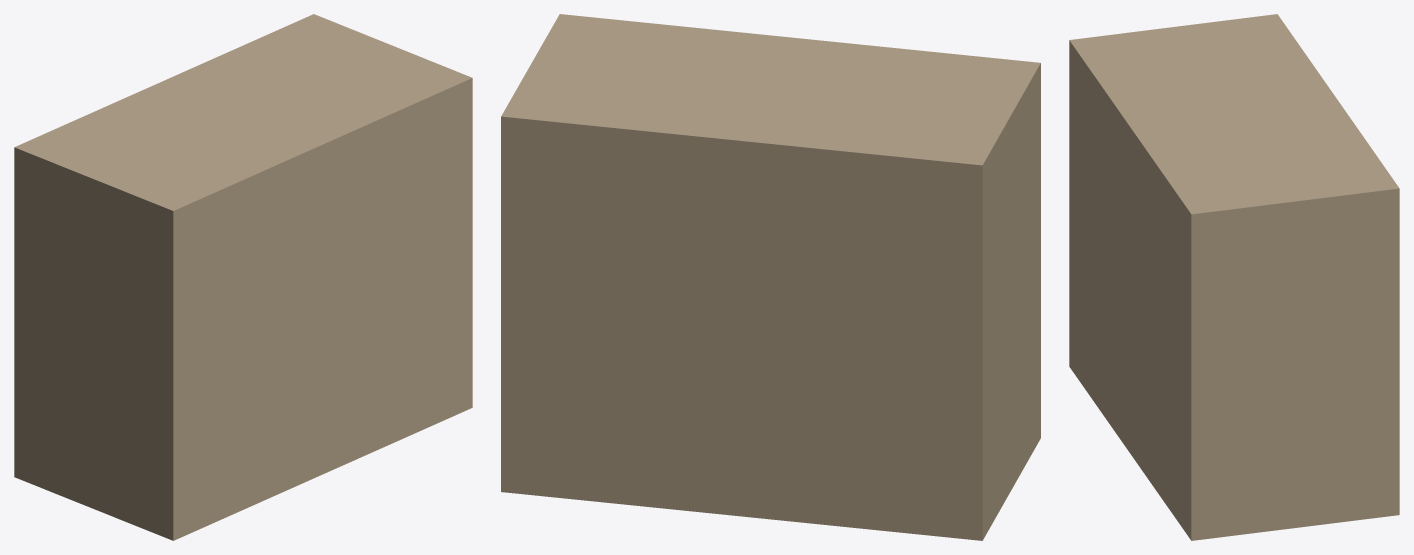
File: bld_164605926.dae
3 renders of one model, left to right at view 1: azimuth 30°, elevation 25°; view 2: azimuth 150°, elevation 25°; view 3: azimuth 270°, elevation 25°, orthographic. The views are drawn at different scales.
Parts seen in each view (by area): view 1: bld_164605926; view 2: bld_164605926; view 3: bld_164605926.
Boxes of the visible parts, left/top/right/bottom form: bld_164605926: left=14, top=14, right=472, bottom=540; bld_164605926: left=501, top=14, right=1040, bottom=540; bld_164605926: left=1069, top=14, right=1399, bottom=540.
Size of the model in its own units: 10.53 by 7.34 by 8.
